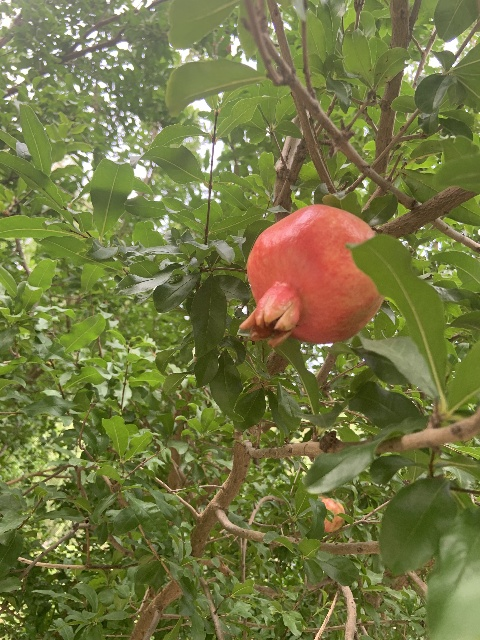ripe: (239, 203, 383, 347), (307, 496, 345, 532)
